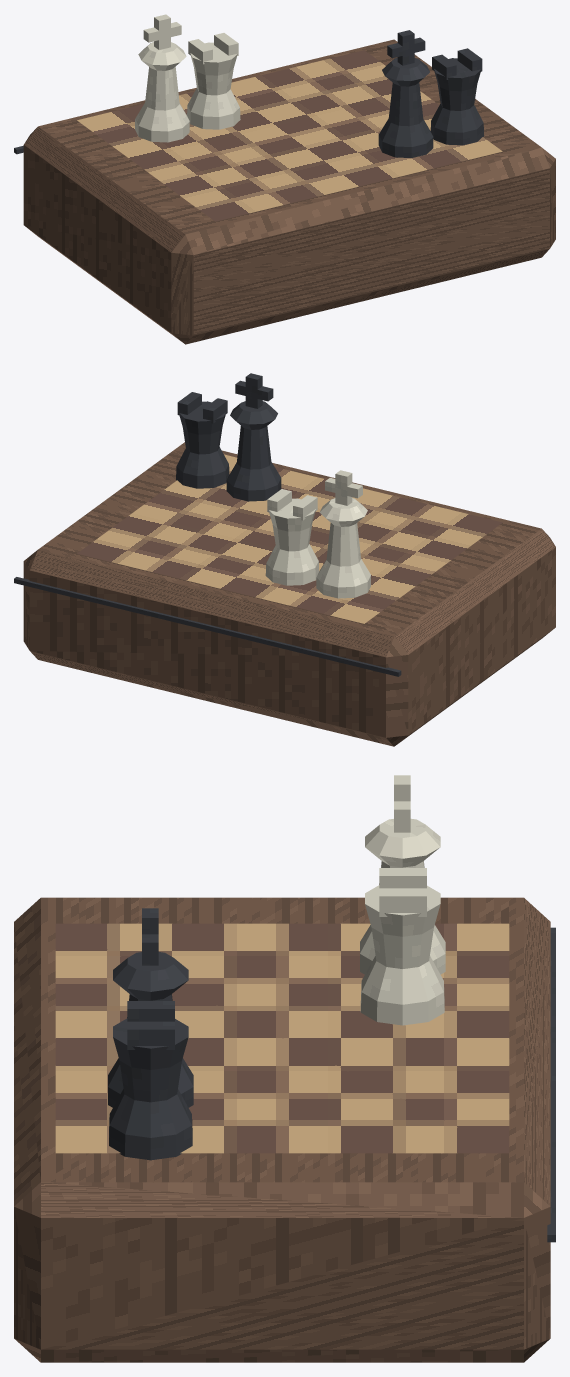
The model's file is chess.glb.
3 renders of one model, top to bottom at view 1: azimuth 30°, elevation 25°; view 2: azimuth 150°, elevation 25°; view 3: azimuth 270°, elevation 25°, orthographic. The views are drawn at different scales.
Parts seen in each view (by area): view 1: block_game box, block_checkerboard, block_turned chess king (×2), block_rook turret (×2), block_rook crenellation (×4), block_king cross (×2); view 2: block_game box, block_checkerboard, block_turned chess king (×2), block_rook turret (×2), block_lid seam, block_king cross (×2); view 3: block_game box, block_checkerboard, block_rook turret (×2), block_turned chess king (×2), block_rook crenellation (×4), block_lid seam.
Boxes of the visible parts, <box> form: block_game box: <box>23,39,555,344</box>; block_checkerboard: <box>77,50,502,221</box>; block_turned chess king (×2): <box>135,42,433,158</box>; block_rook turret (×2): <box>187,42,484,145</box>; block_rook crenellation (×4): <box>188,33,482,79</box>; block_king cross (×2): <box>154,14,414,65</box>; block_game box: <box>23,442,555,746</box>; block_checkerboard: <box>77,454,502,623</box>; block_turned chess king (×2): <box>226,401,370,598</box>; block_rook turret (×2): <box>176,401,319,585</box>; block_lid seam: <box>14,577,401,676</box>; block_king cross (×2): <box>245,373,352,505</box>; block_game box: <box>14,897,550,1362</box>; block_checkerboard: <box>55,923,509,1153</box>; block_rook turret (×2): <box>109,885,444,1160</box>; block_turned chess king (×2): <box>108,818,445,1107</box>; block_rook crenellation (×4): <box>127,868,426,1049</box>; block_lid seam: <box>547,927,555,1242</box>.
Bounding box in the file's own units: 0.3 × 0.1675 × 0.2236.
Materials: 1 (1 with a texture image).
